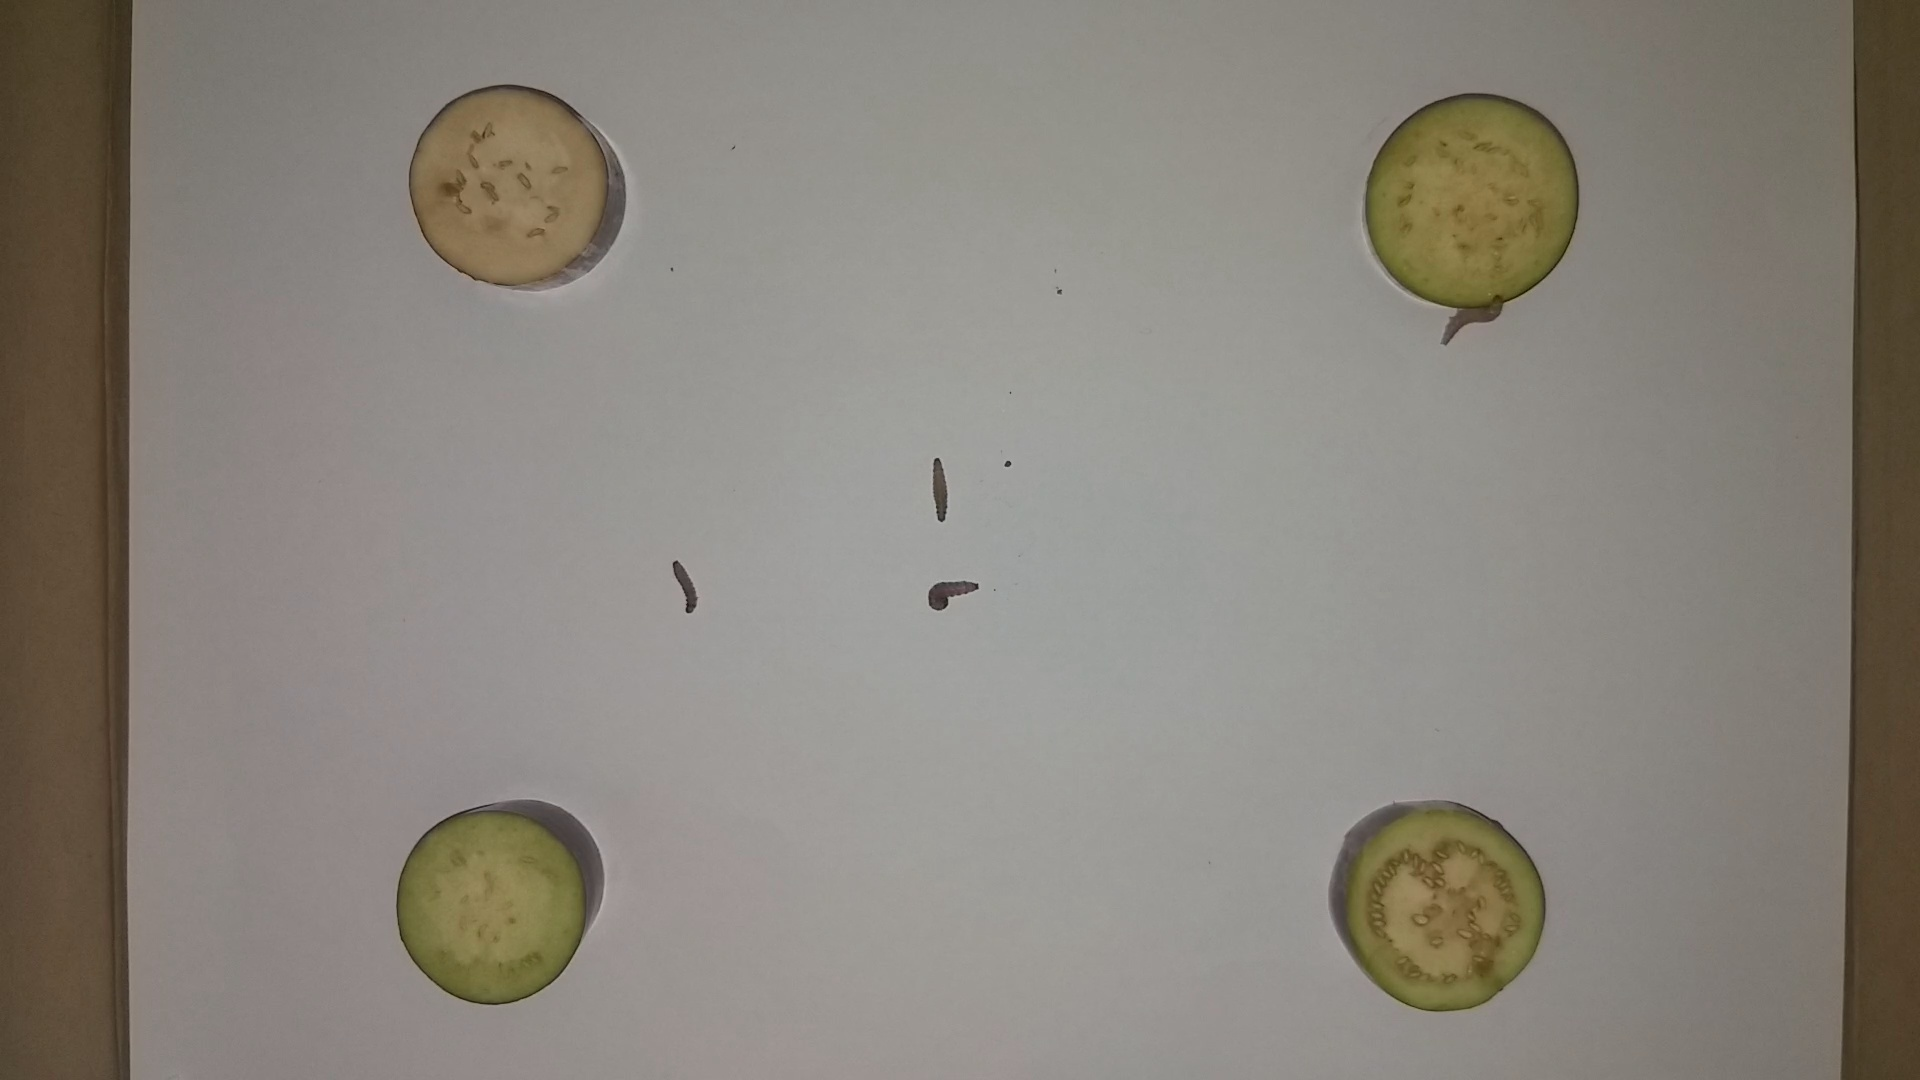efsb: (1431, 287, 1509, 352), (916, 446, 961, 535), (655, 556, 702, 622), (922, 572, 986, 618)
eggplant: (378, 791, 622, 1014), (1321, 786, 1556, 1017), (394, 70, 633, 295), (1356, 88, 1588, 319)
